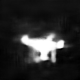plane: (15, 31, 73, 64)
